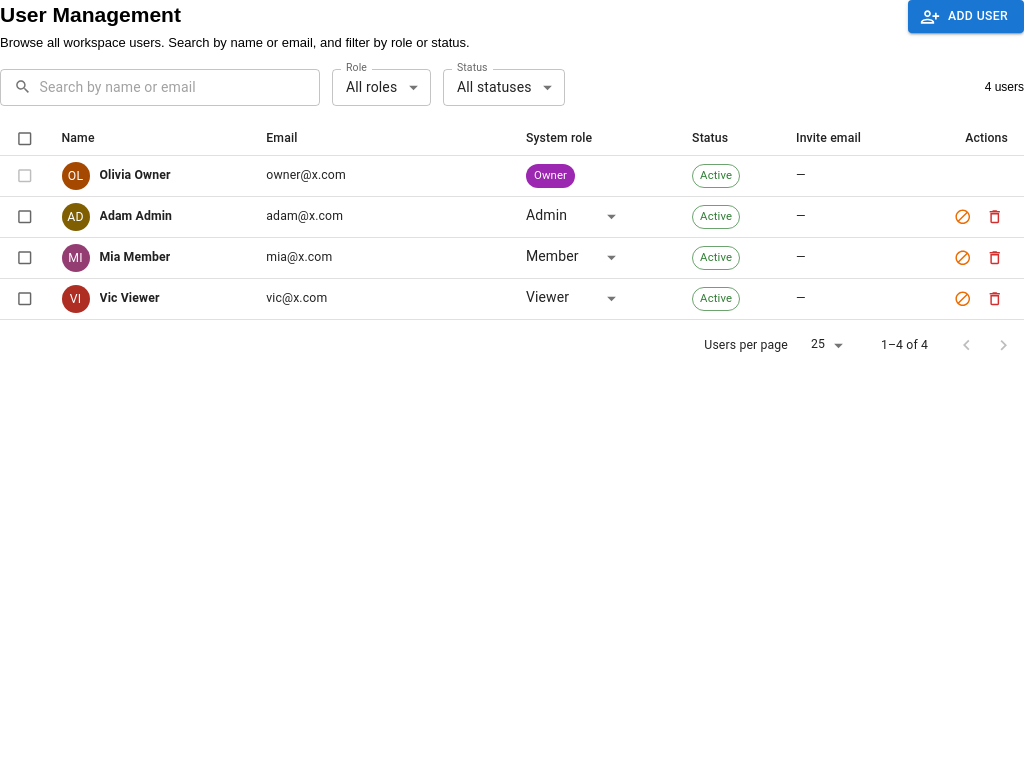
Test case: UserManagementPage — bulk delete › surfaces skipped (protected) rows and leaves them in place
Expected: the text "Mia Member" is shown, [100,249,170,266]
Click the checkbox named "Select Adam Admin": (25, 217) [16,208,34,225]
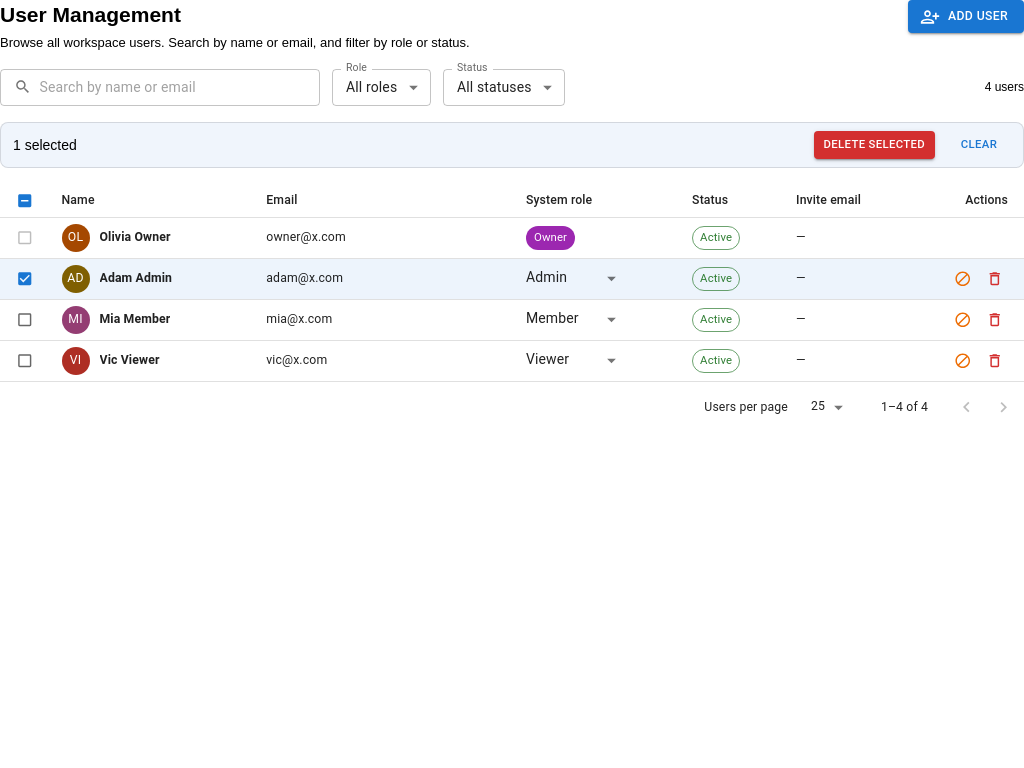
Click the button "Delete selected": (874, 145) [814,131,935,159]
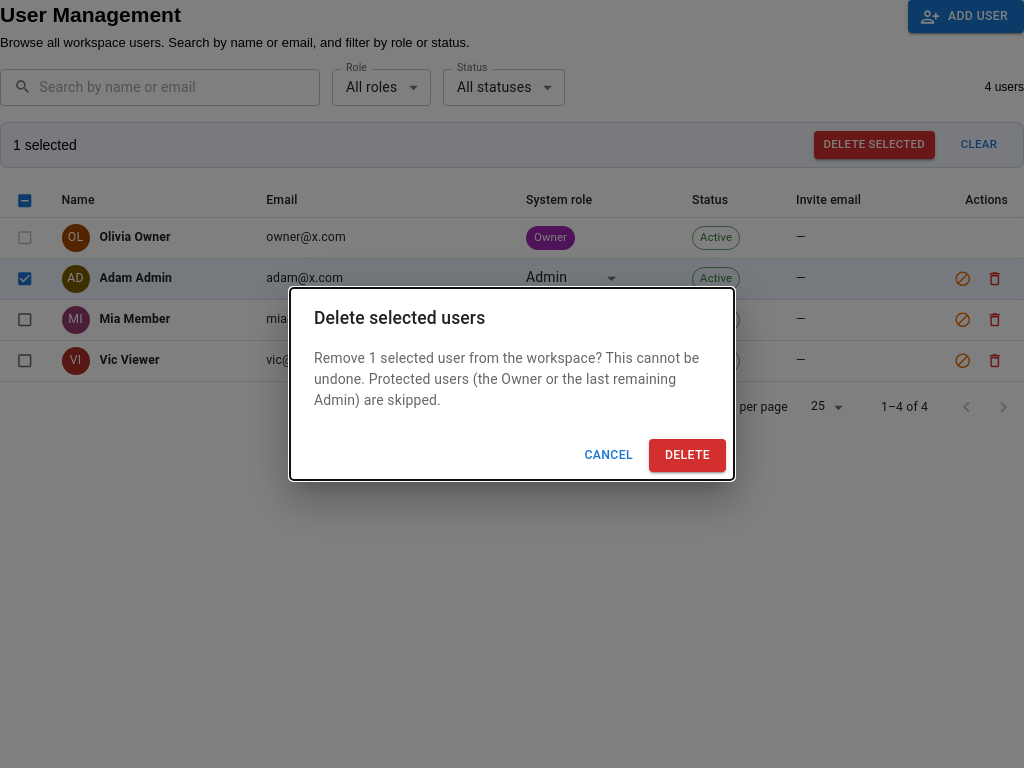
Click the button "Delete": (687, 456) [649,439,726,472]
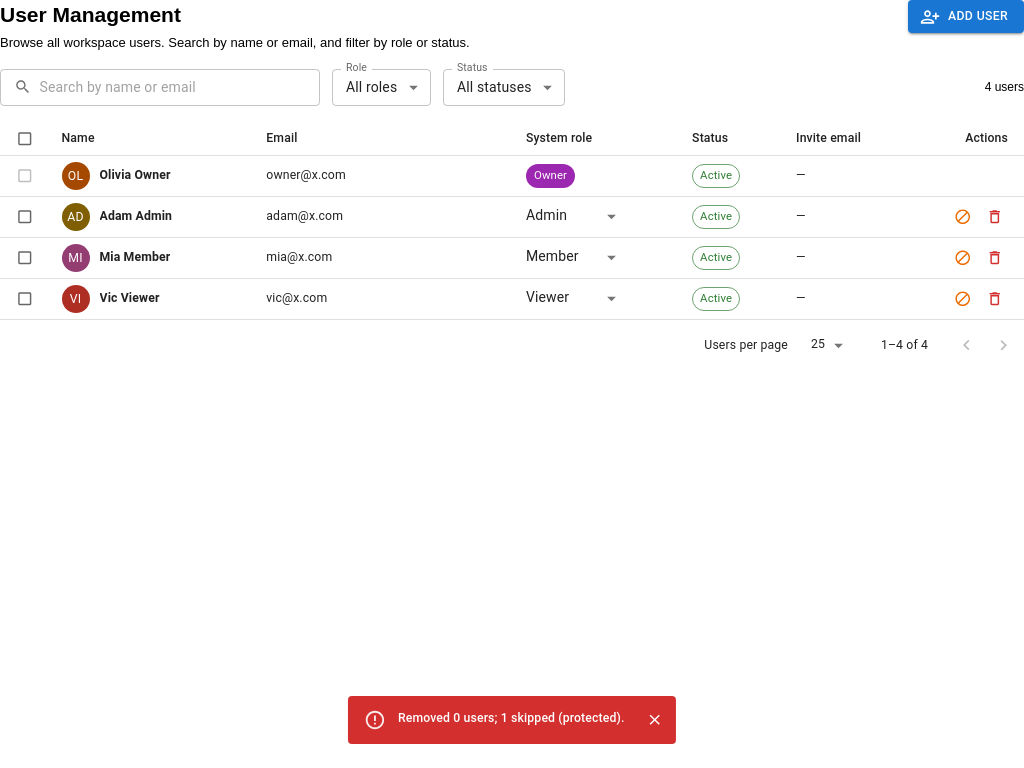
Expected: the text "Adam Admin" is shown, [100,208,172,225]
Now the text "Removed 0 users; 1 skipped (protected)." is shown, box [398,711,625,725]
